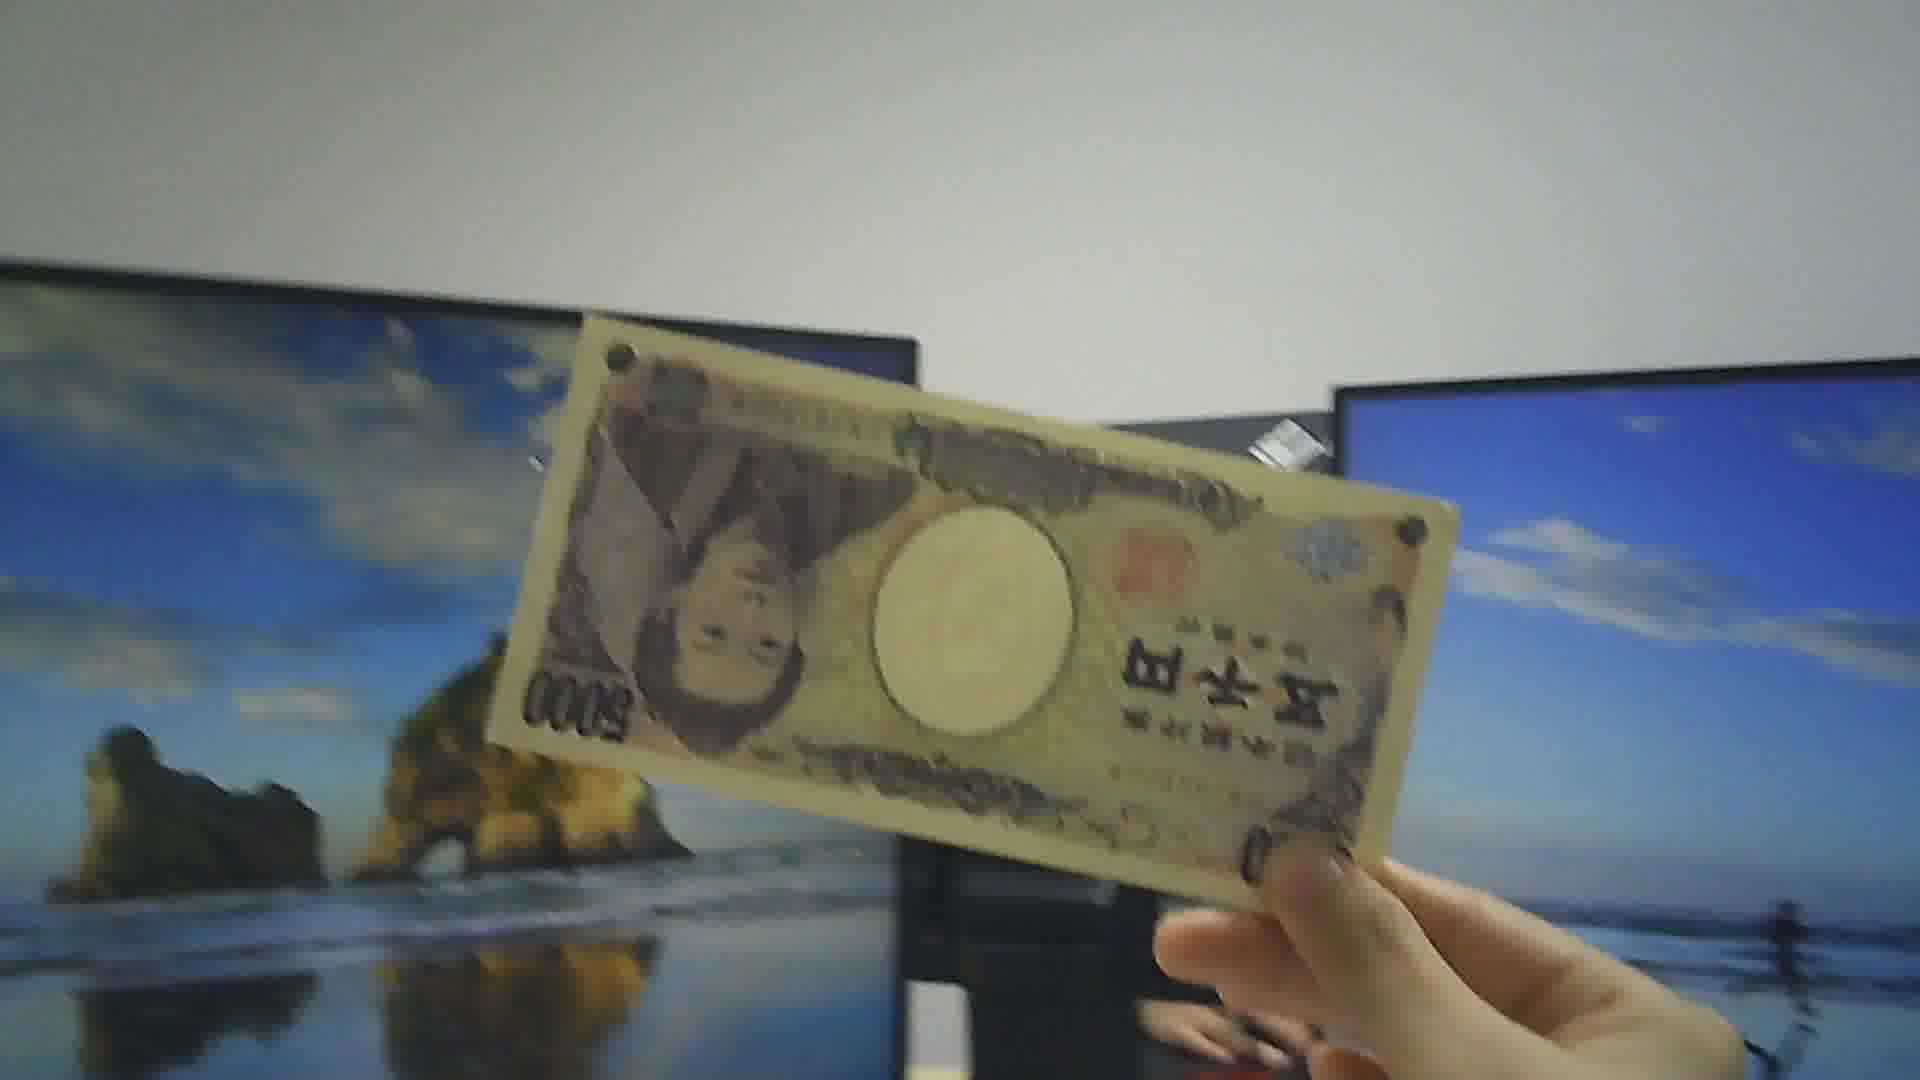5,000 Yen: (469, 295, 1451, 927)
